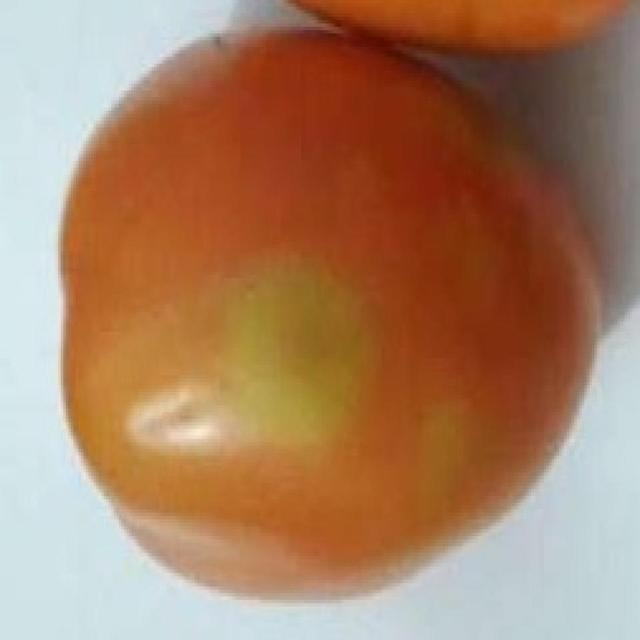Spotted wilt Virus Fruit: (37, 18, 402, 401)
